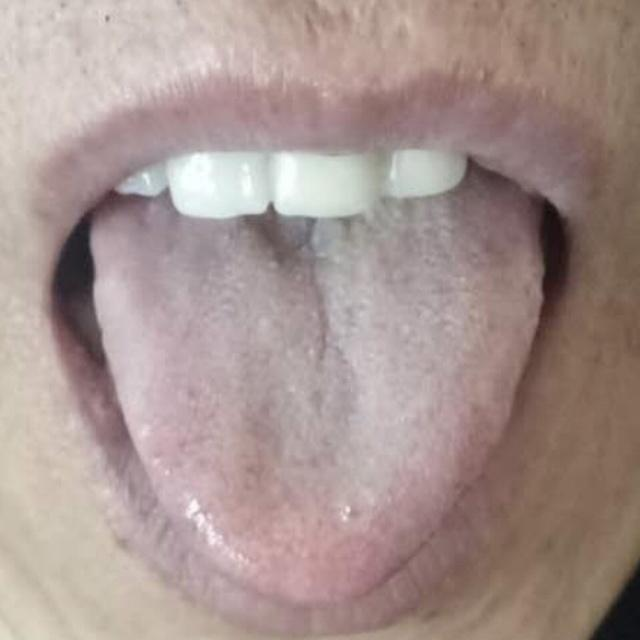baitaishe: (90, 218, 544, 604)
